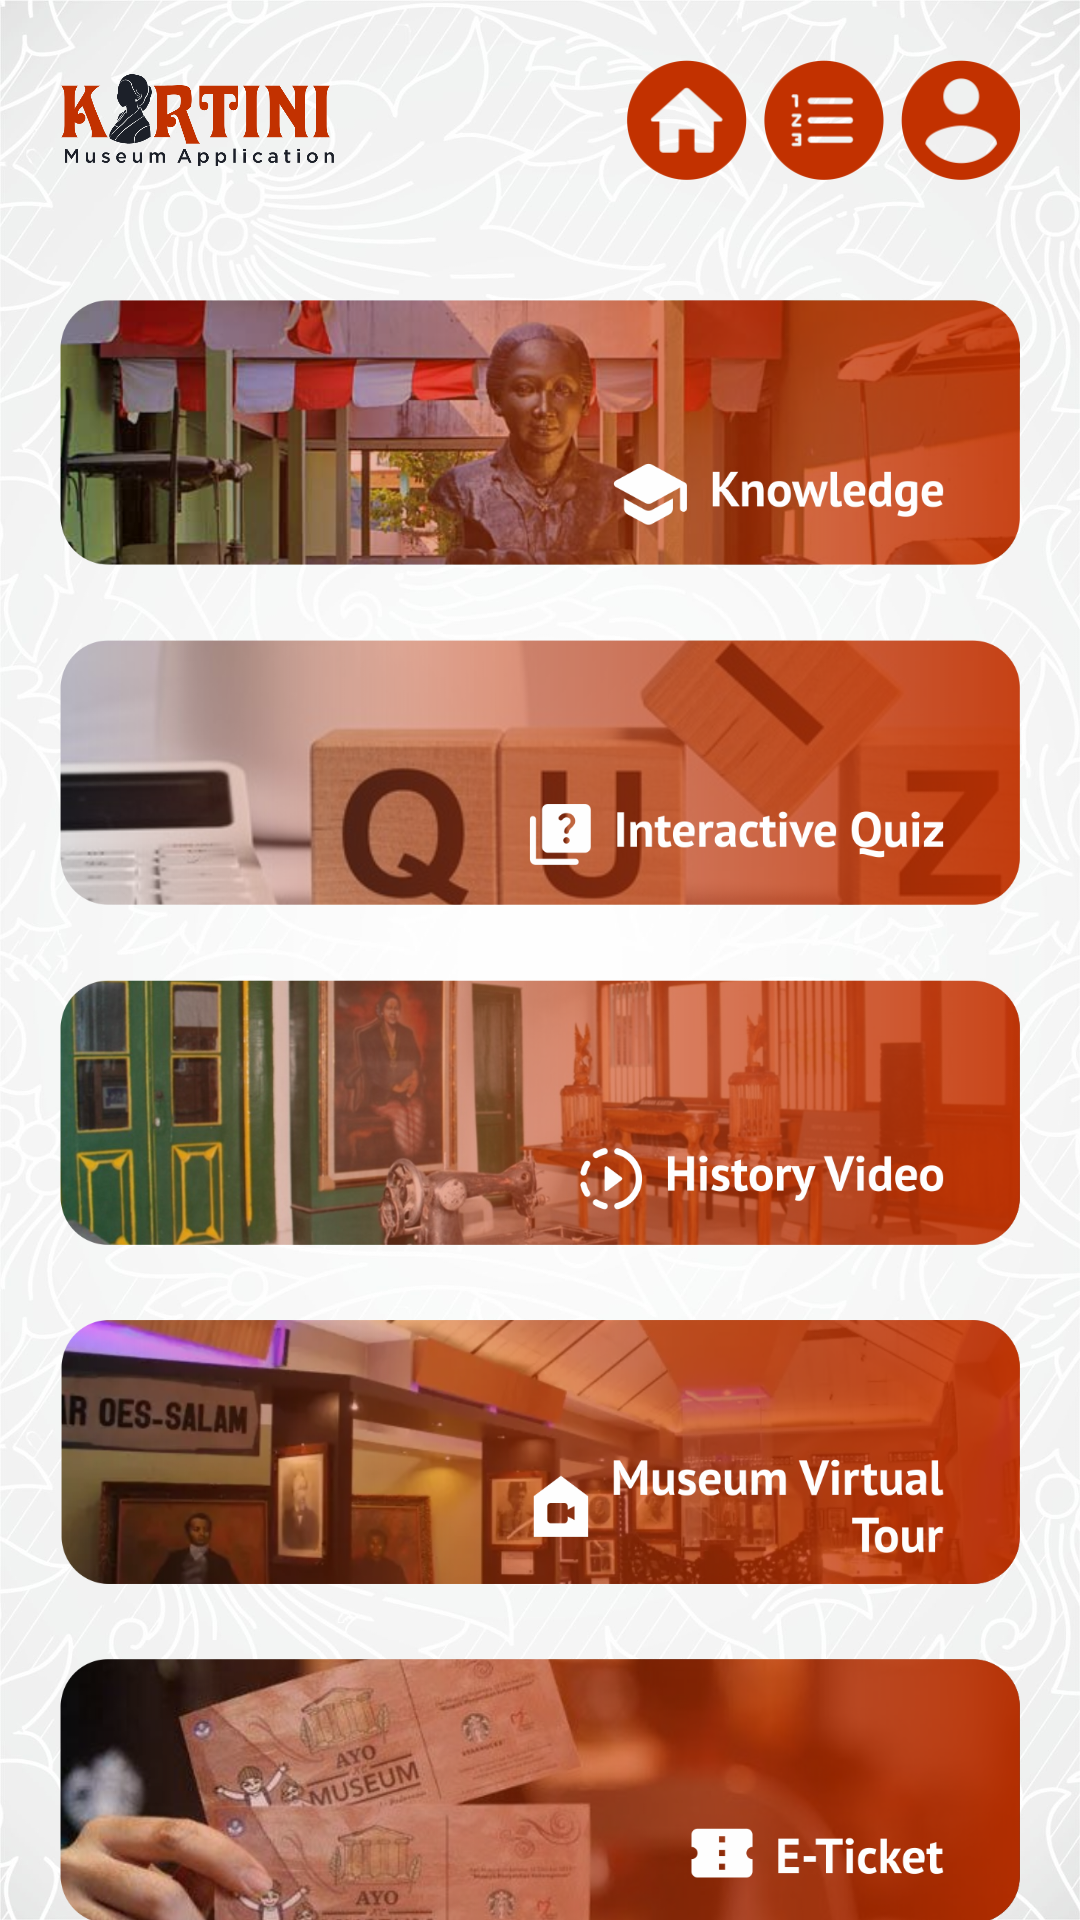

Icon click points for this 1080x1920 phone screenshot, format point (x, y):
home: point (687, 120)
menu: point (824, 120)
user: point (960, 120)
